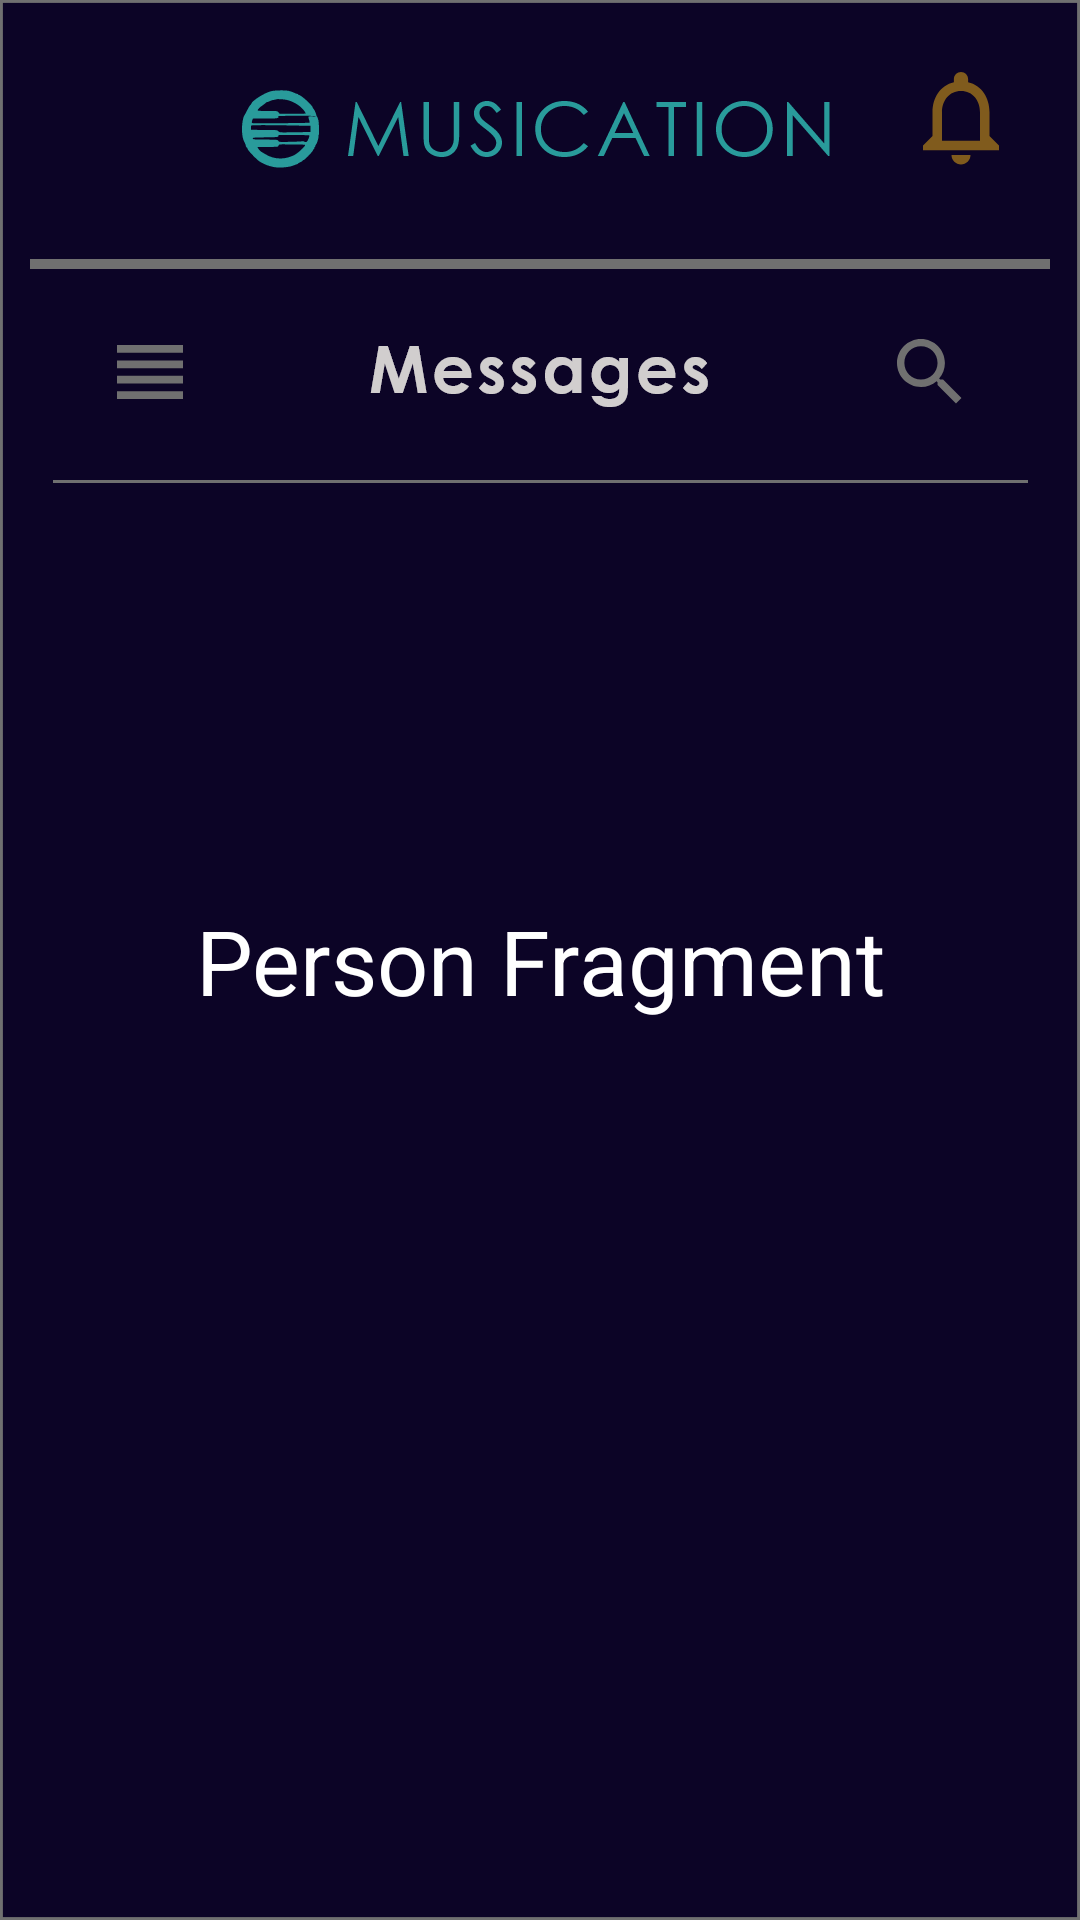

Screen size 1080×1920. Icon name, then its box in pixels as (x1, y1, x2, y2):
list: (117, 345, 183, 399)
notification: (923, 72, 999, 165)
search: (897, 339, 961, 403)
